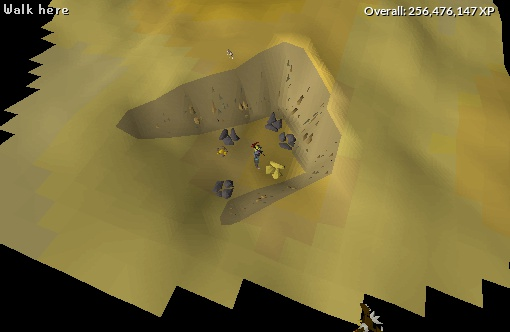depleted: (211, 176, 241, 203), (262, 110, 287, 134), (218, 124, 241, 149)
gold: (259, 157, 295, 183)
